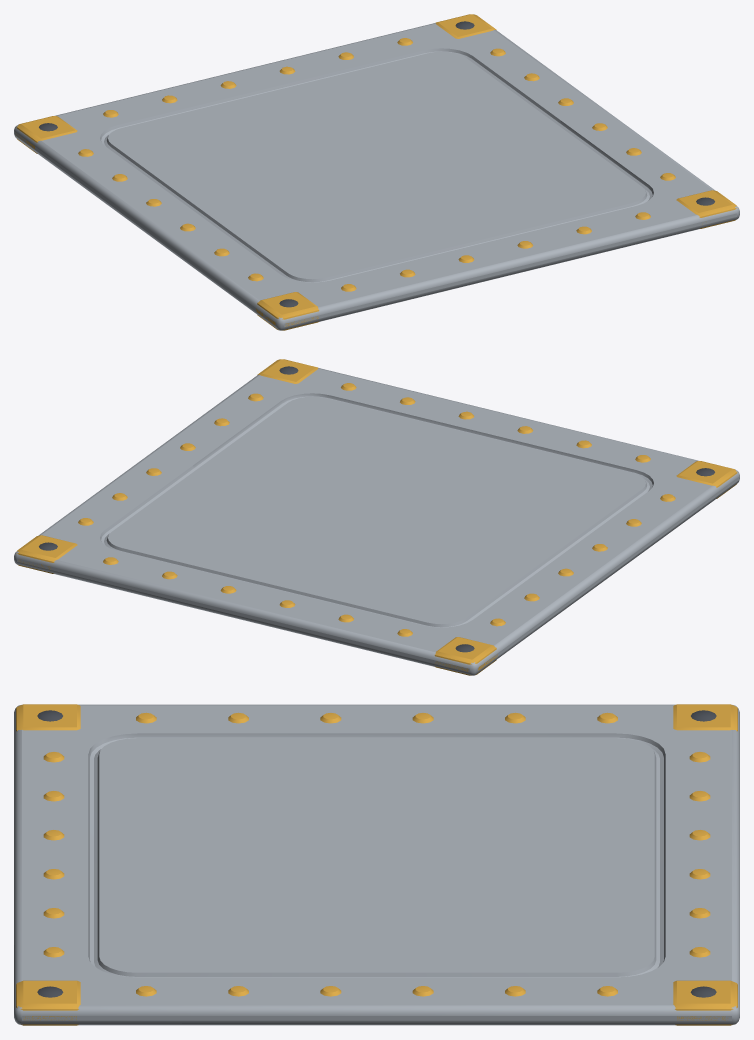
Rendered from part_plate.glb.
3 views of the same model, one above another, from view 1: azimuth 30°, elevation 25°; view 2: azimuth 150°, elevation 25°; view 3: azimuth 270°, elevation 25° (orthographic). The views are drawn at different scales.
Parts seen in each view (by area): view 1: Plate; view 2: Plate; view 3: Plate.
Part boxes in pixels (<box>): Plate: <box>14,14,739,330</box>; Plate: <box>14,359,739,675</box>; Plate: <box>14,704,739,1025</box>.
Size of the model in its own units: 2 by 0.08 by 2.
